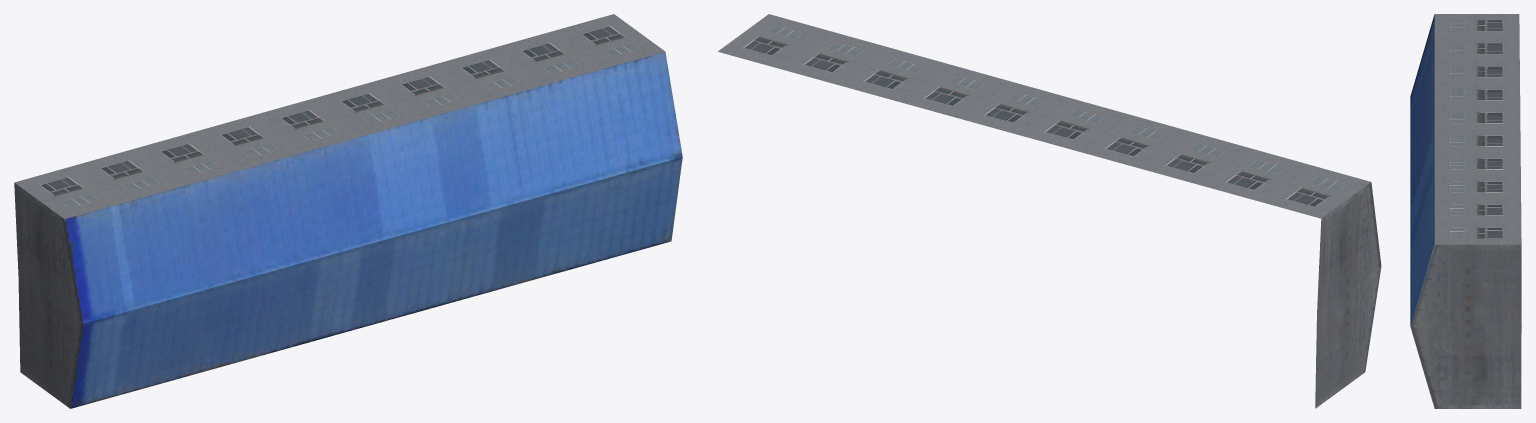
3 renders of one model, left to right at view 1: azimuth 30°, elevation 25°; view 2: azimuth 150°, elevation 25°; view 3: azimuth 270°, elevation 25°, orthographic. The views are drawn at different scales.
Parts seen in each view (by area): view 1: Group_MatrixTransform_i94b011_Geometry_3, Group_MatrixTransform_i94b011_Geometry_1, Group_MatrixTransform_i94b011_Geometry_2; view 2: Group_MatrixTransform_i94b011_Geometry_1, Group_MatrixTransform_i94b011_Geometry_2; view 3: Group_MatrixTransform_i94b011_Geometry_1, Group_MatrixTransform_i94b011_Geometry_2, Group_MatrixTransform_i94b011_Geometry_3.
Boxes of the visible parts, left/top/right/bottom form: Group_MatrixTransform_i94b011_Geometry_3: left=64, top=51, right=682, bottom=408; Group_MatrixTransform_i94b011_Geometry_1: left=14, top=14, right=664, bottom=218; Group_MatrixTransform_i94b011_Geometry_2: left=14, top=183, right=82, bottom=408; Group_MatrixTransform_i94b011_Geometry_1: left=718, top=14, right=1370, bottom=218; Group_MatrixTransform_i94b011_Geometry_2: left=1315, top=182, right=1381, bottom=408; Group_MatrixTransform_i94b011_Geometry_1: left=1434, top=14, right=1521, bottom=244; Group_MatrixTransform_i94b011_Geometry_2: left=1410, top=244, right=1521, bottom=408; Group_MatrixTransform_i94b011_Geometry_3: left=1410, top=14, right=1434, bottom=326.
Bounding box in the file's own units: 55.13 × 18.41 × 10.32.
Materials: 4 (4 with a texture image).
